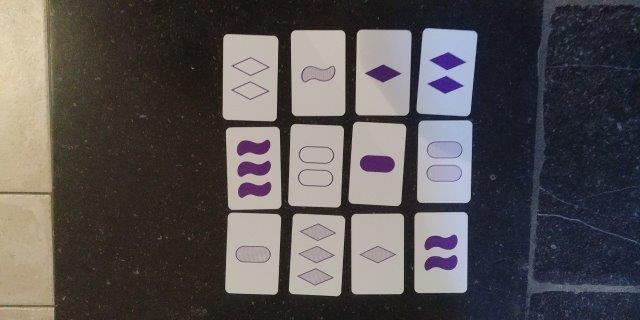1FD: (359, 32, 405, 111)
1FP: (356, 125, 396, 202)
1HD: (355, 217, 399, 290)
1HP: (230, 216, 275, 290)
1HW: (293, 33, 343, 112)
2ED: (226, 38, 274, 116)
2EP: (294, 127, 336, 204)
2FD: (427, 31, 467, 112)
2FW: (418, 213, 463, 290)
2HP: (421, 122, 465, 200)
3FW: (231, 130, 277, 207)
3HD: (295, 217, 336, 292)
